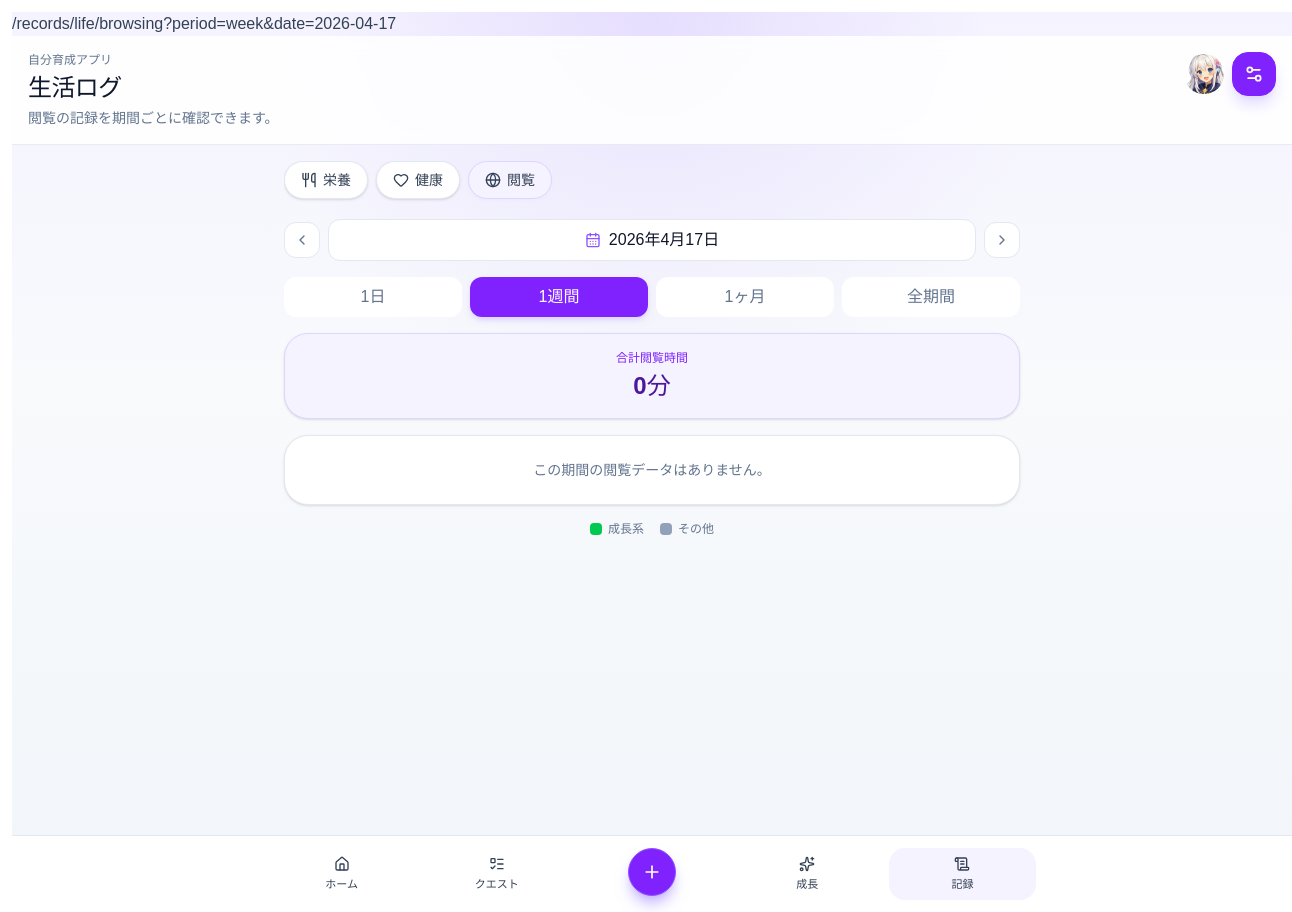
it: activity log routes › reads the browsing period from query params on the life-log route and keeps the date anchor
Expected: the text with test id "location" reads "/records/life/browsing?period=week&date=2026-04-17", [12,15,396,32]
Click the button "全期間" at (931, 297), box [842,277,1020,317]
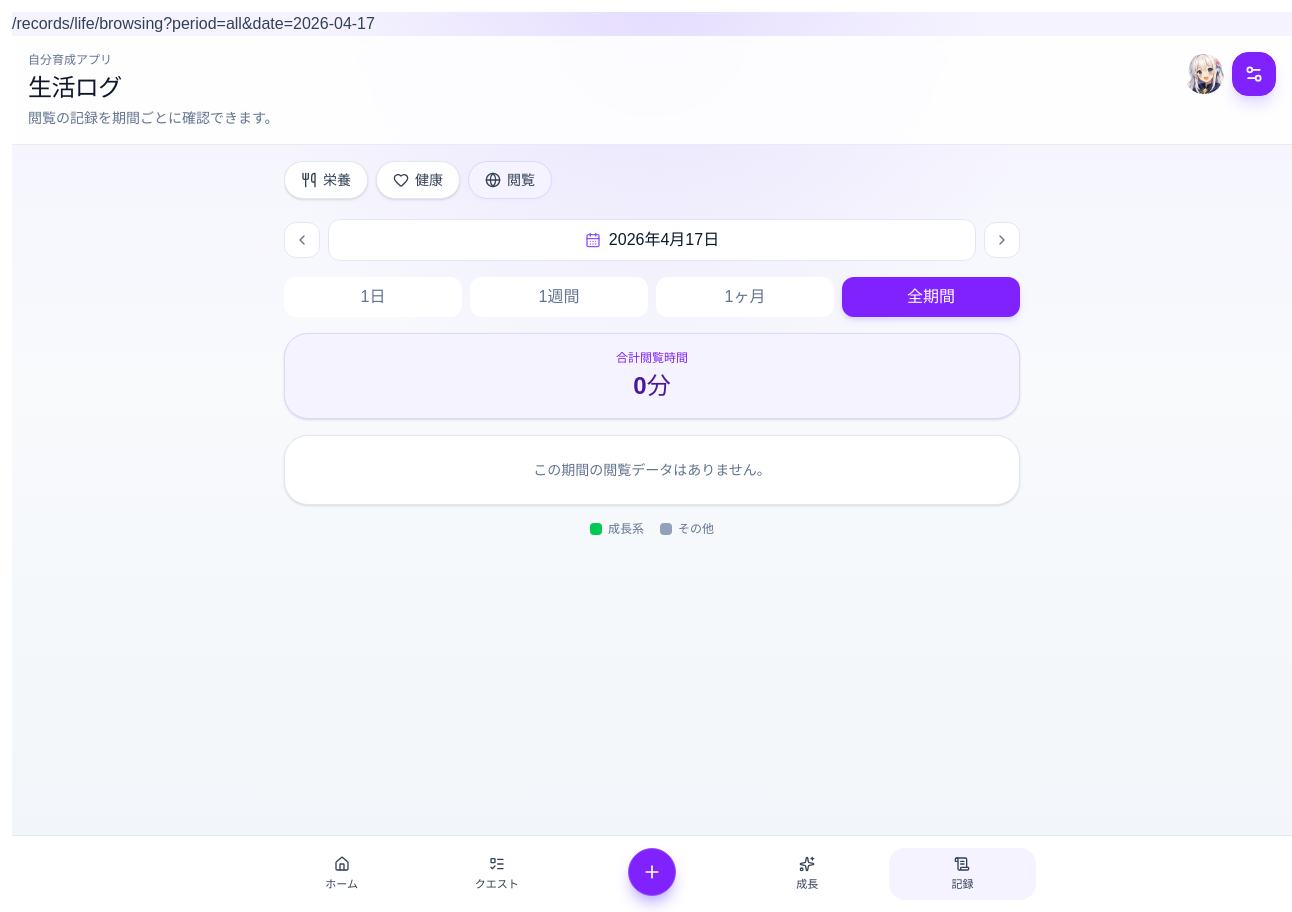
Result: the text with test id "location" reads "/records/life/browsing?period=all&date=2026-04-17" at [12,15,375,32]
